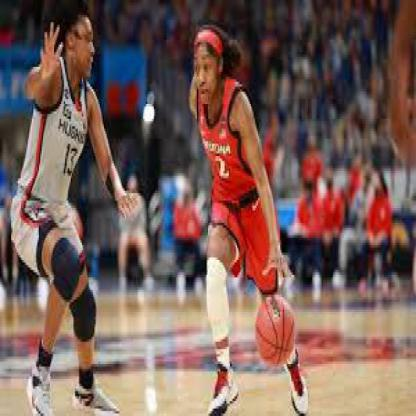basketball: (255, 297, 297, 369)
